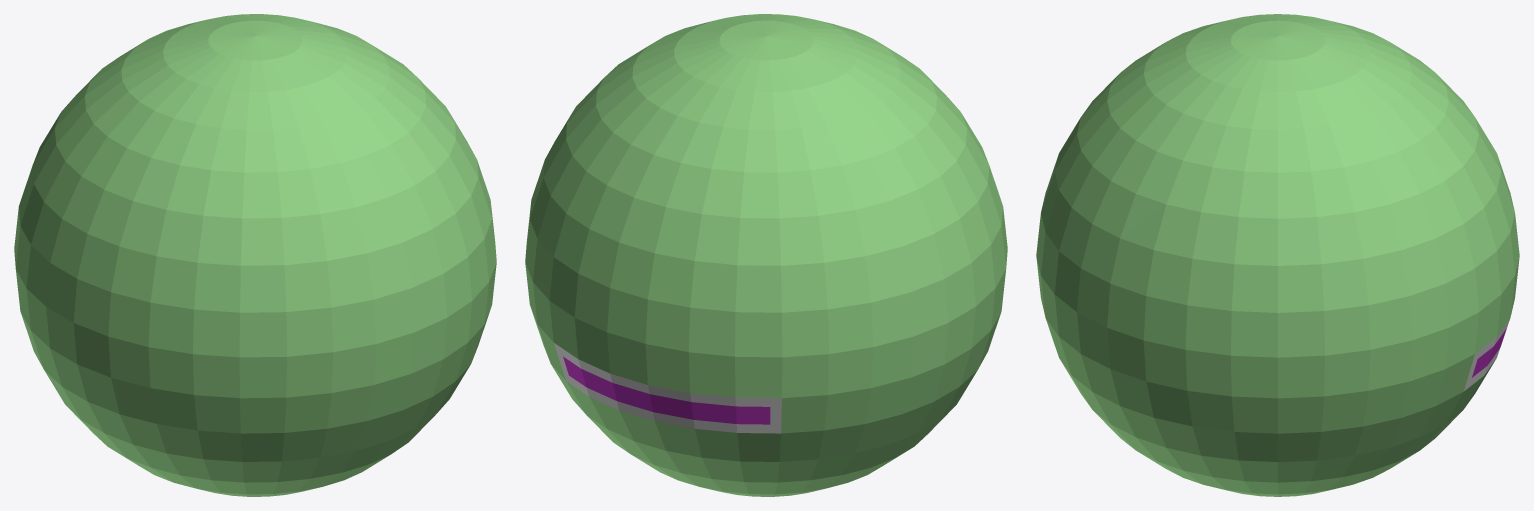
File: PlaceholderModelBottom.fbx
The picture shows the model from 3 angles, left to right: view 1: azimuth 30°, elevation 25°; view 2: azimuth 150°, elevation 25°; view 3: azimuth 270°, elevation 25°; orthographic projection.
Parts seen in each view (by area): view 1: Sphere; view 2: Sphere; view 3: Sphere.
Part boxes in pixels (x1,y1,x2,y2): Sphere: [14, 14, 496, 496]; Sphere: [525, 14, 1007, 496]; Sphere: [1036, 14, 1519, 496].
Size of the model in its own units: 200 by 200 by 200.
